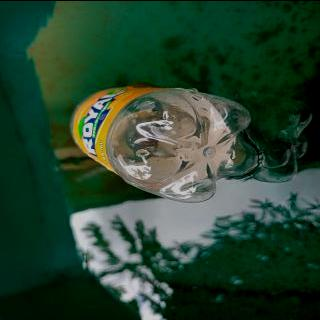bottle: (70, 85, 261, 201)
